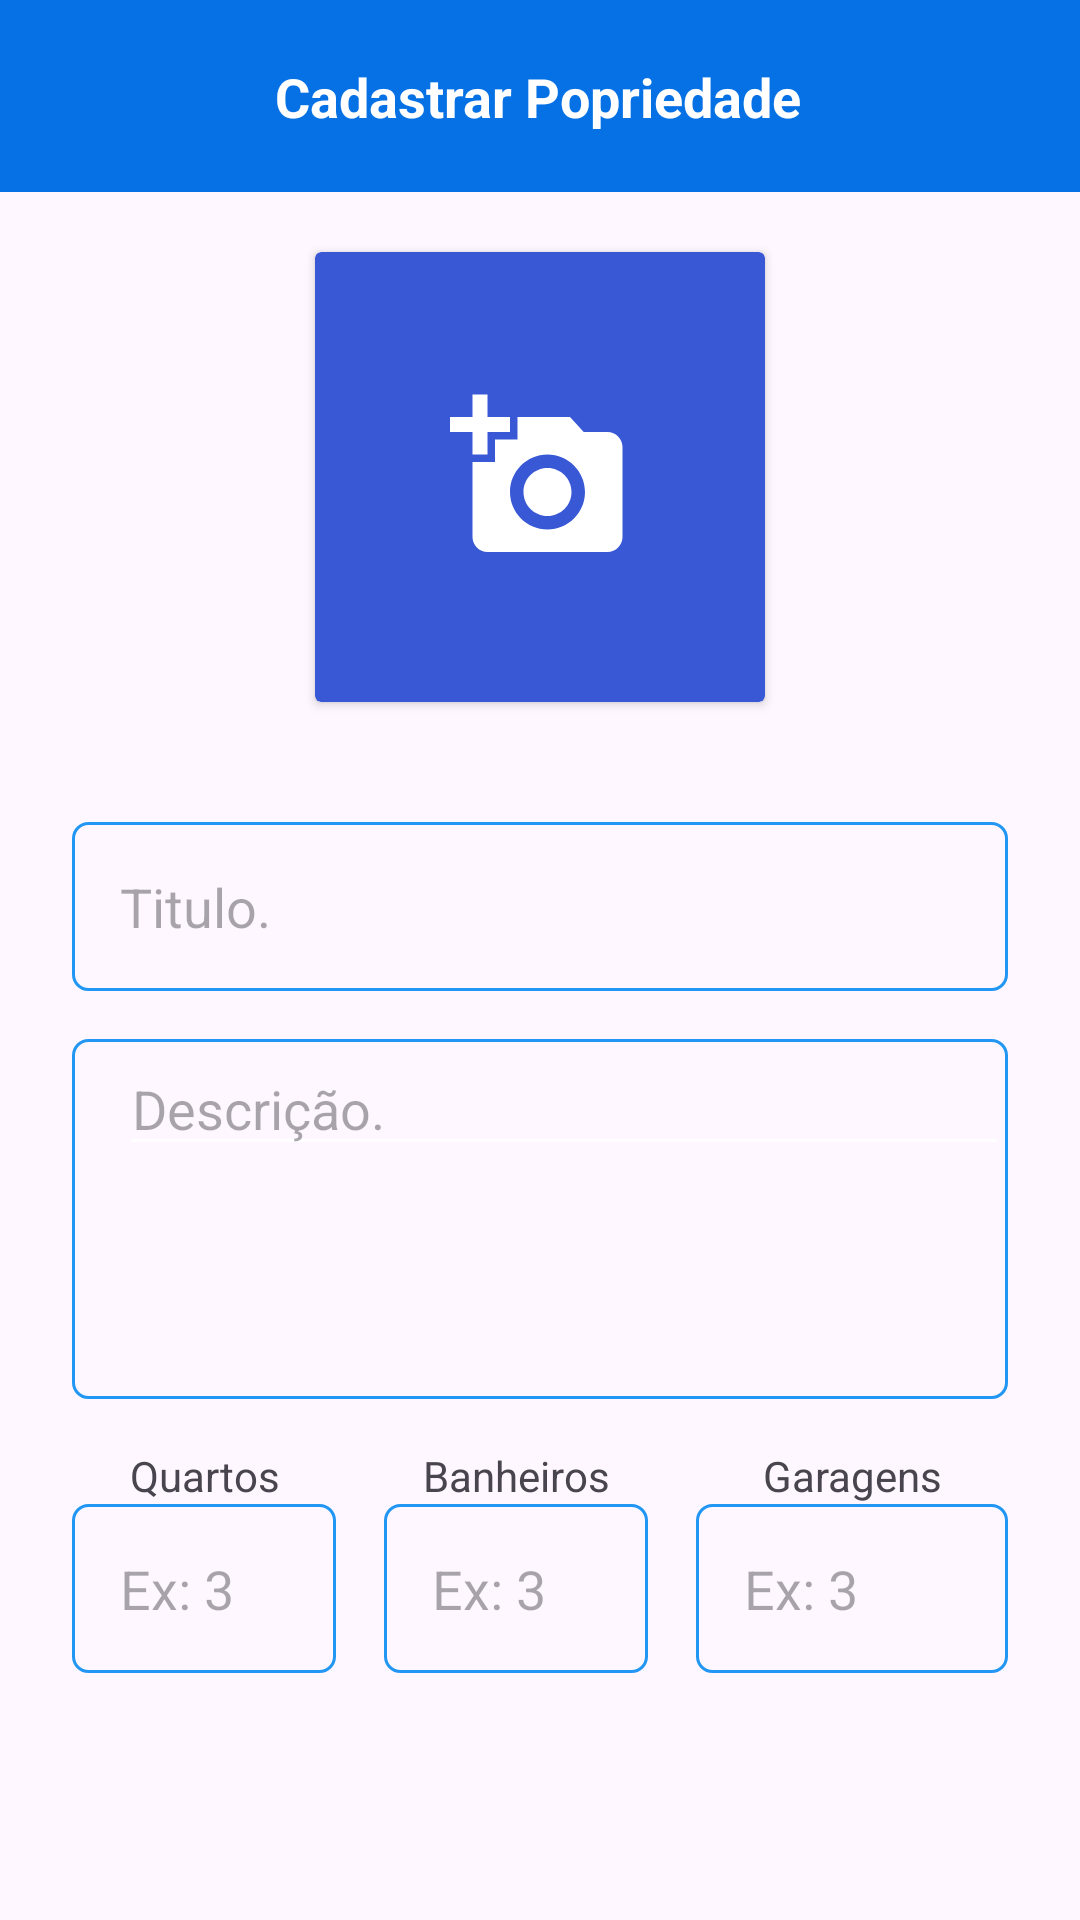

Point at icon controls on the screen. Image size 1080w x 1920h, points as [x,y].
photo: [536,473]
